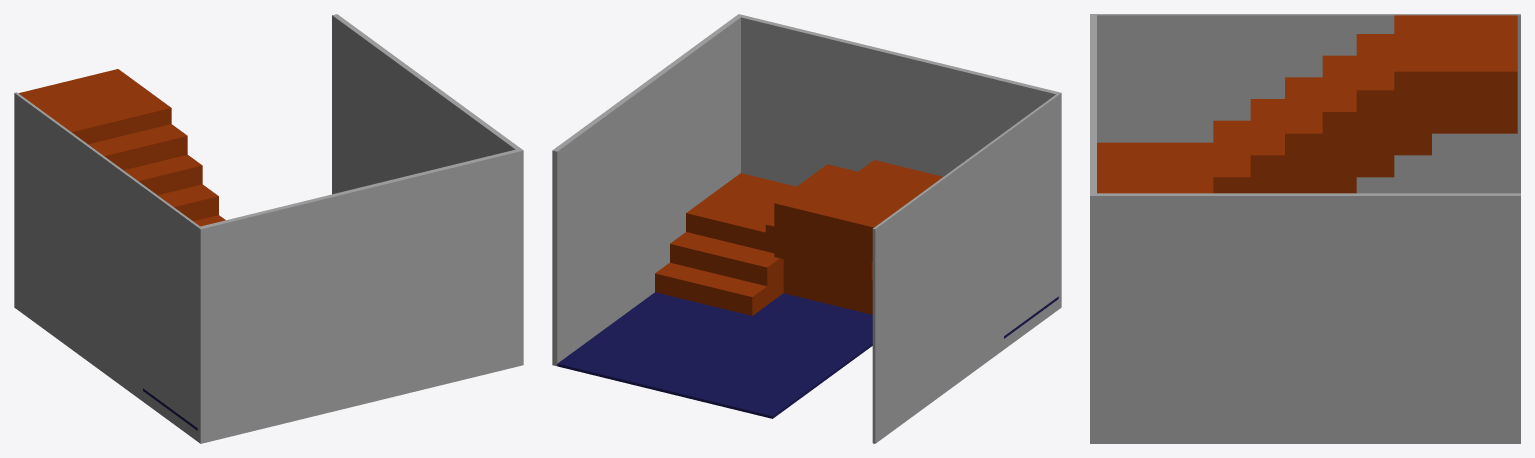
File: 4x2 second-7.obj
The picture shows the model from 3 angles, left to right: view 1: azimuth 30°, elevation 25°; view 2: azimuth 150°, elevation 25°; view 3: azimuth 270°, elevation 25°; orthographic projection. The views are drawn at different scales.
Visible parts, largest first — view 1: 4x2 second-7; view 2: 4x2 second-7; view 3: 4x2 second-7.
Boxes of the visible parts, bbox=[...] form: 4x2 second-7: bbox=[14, 14, 523, 443]; 4x2 second-7: bbox=[552, 14, 1061, 443]; 4x2 second-7: bbox=[1090, 14, 1520, 443].
Size of the model in its own units: 126 by 80 by 126.
1 material, 1 textured.
